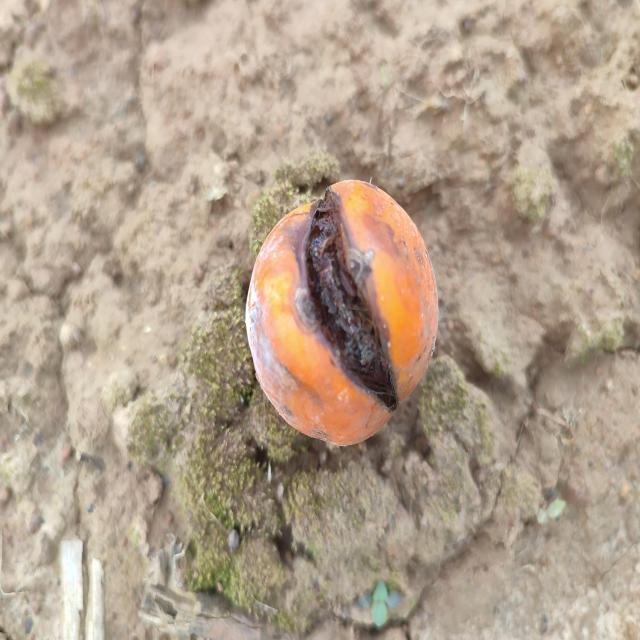damaged: (246, 180, 438, 445)
